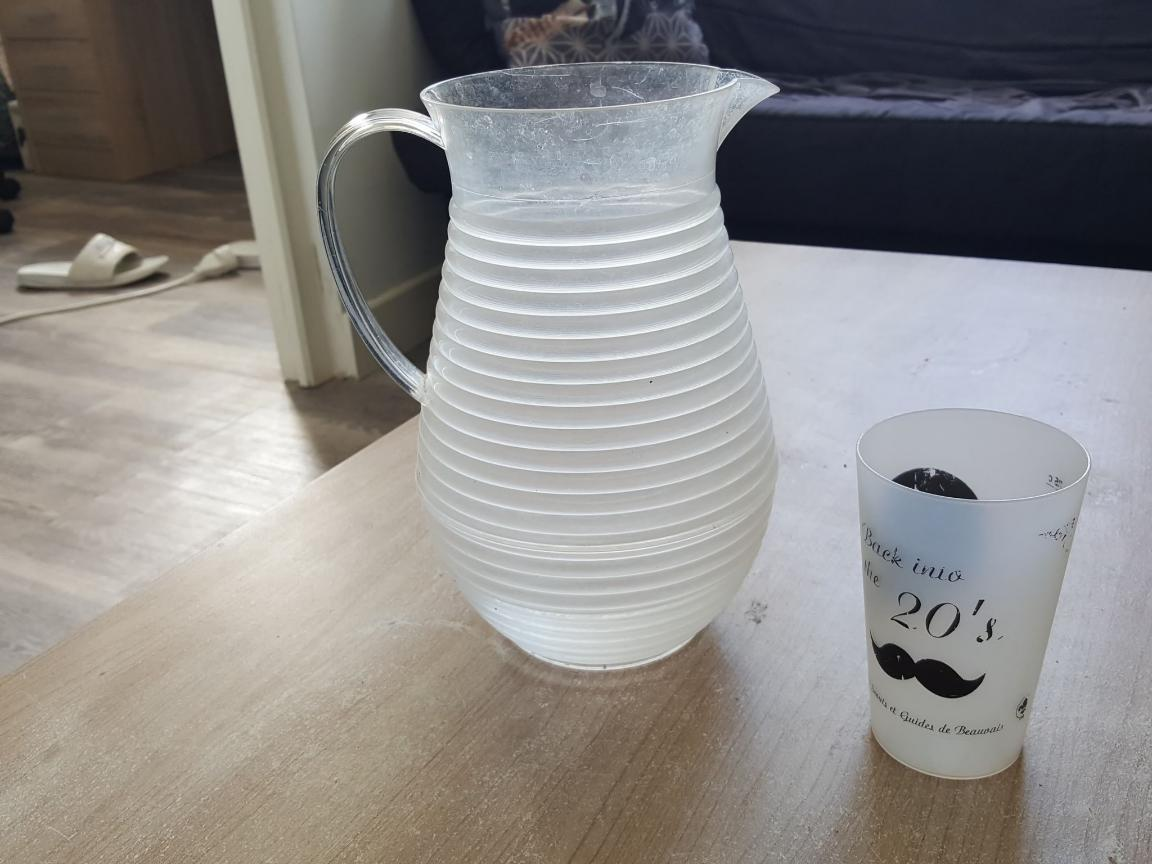ecocup: (853, 405, 1091, 781)
